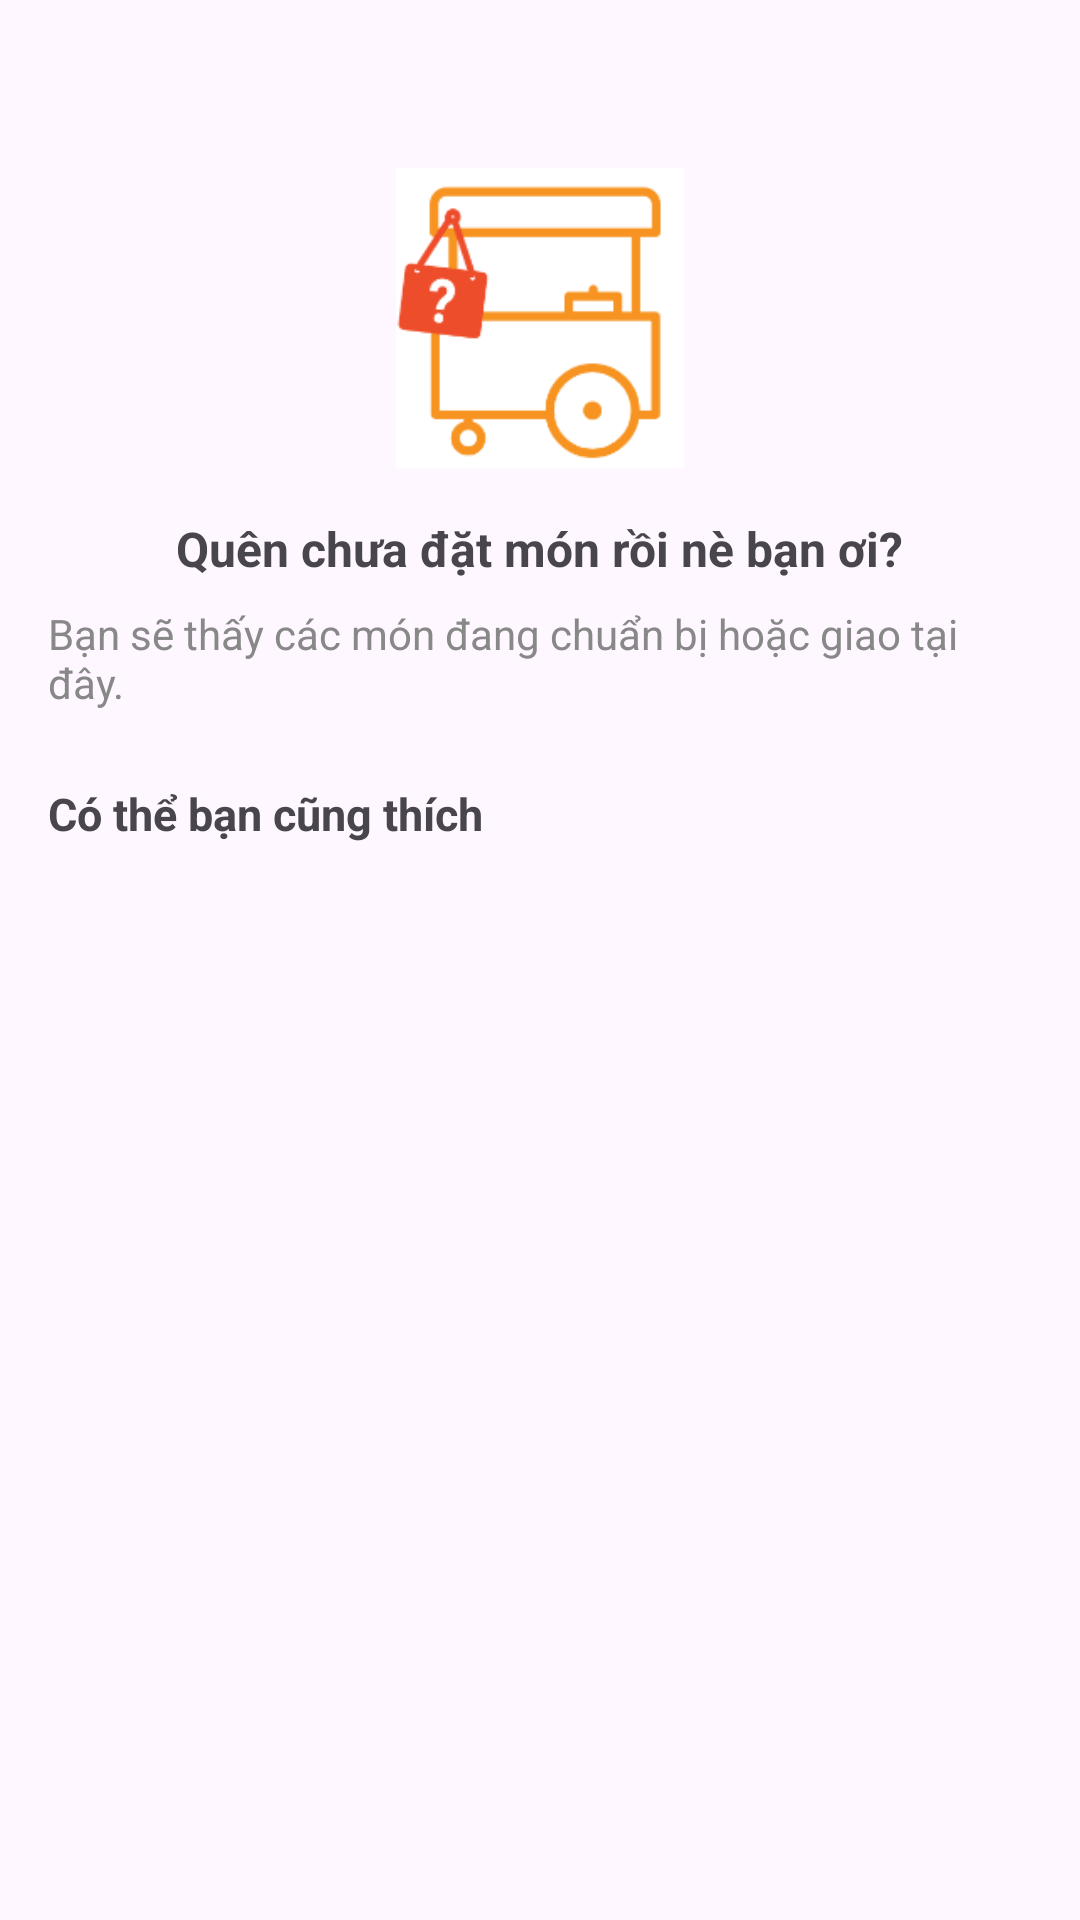

Icons on this 1080x1920 Android screen, each with the point to tap as [x,y]:
empty cart: [529,322]
